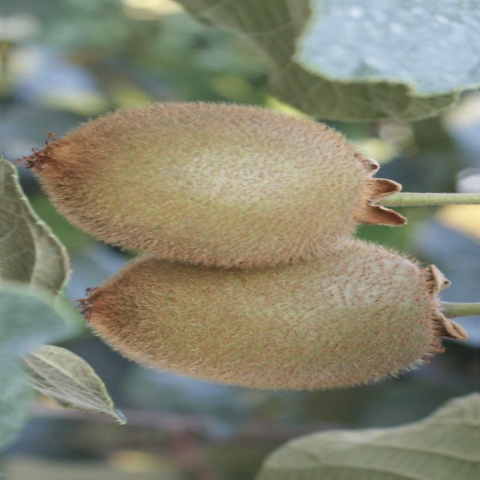kiwi: (81, 221, 457, 409), (21, 99, 417, 273)
